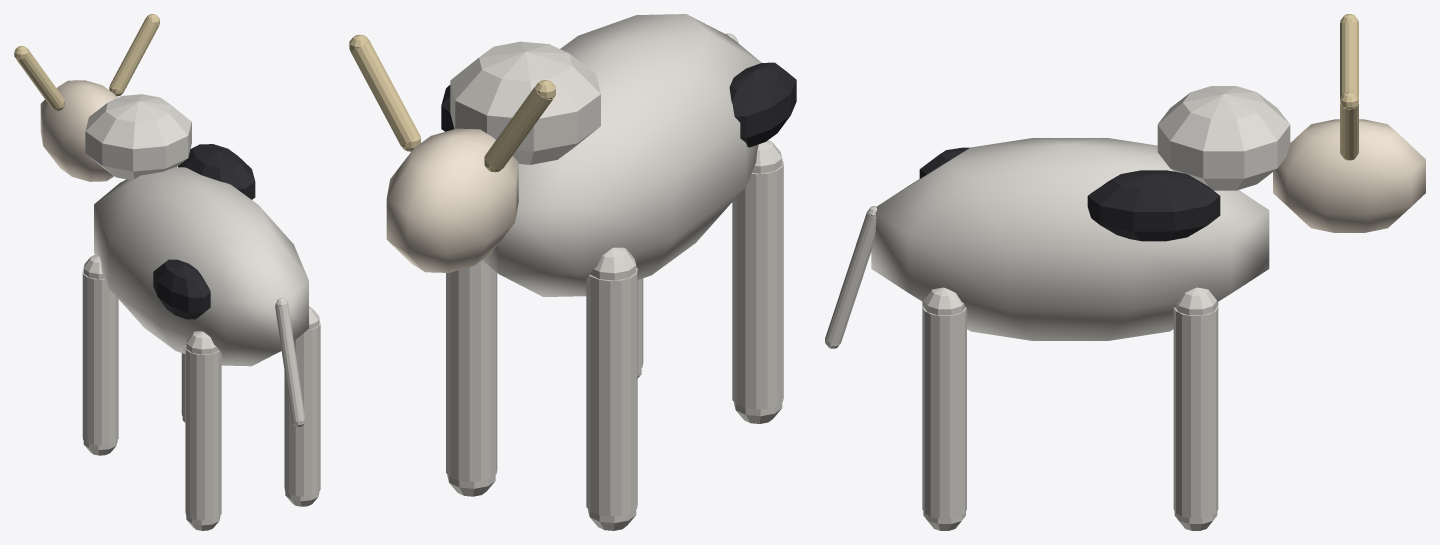
The model's file is rick-cow-D1IHve8W.glb.
3 views of the same model, side by side, from view 1: azimuth 30°, elevation 25°; view 2: azimuth 150°, elevation 25°; view 3: azimuth 270°, elevation 25° (orthographic). The views are drawn at different scales.
Visible parts, largest first — view 1: Sphere, Sphere.003, Cylinder.002, Cylinder.003, Cylinder.004, Sphere.004, Sphere.002, Sphere.001, Cylinder.006, Cylinder.001, Cylinder, Sphere.009 (+1 smaller); view 2: Sphere, Sphere.004, Cylinder.003, Sphere.003, Cylinder.002, Cylinder.005, Sphere.002, Cylinder.001, Cylinder, Sphere.011, Sphere.009, Cylinder.004 (+3 smaller); view 3: Sphere, Sphere.004, Sphere.003, Cylinder.005, Cylinder.004, Sphere.001, Cylinder.006, Cylinder, Cylinder.001, Sphere.013, Sphere.015.
Part boxes in pixels (x1,y1,x2,y2): Sphere: (94, 167, 308, 366); Sphere.003: (85, 94, 191, 180); Cylinder.002: (185, 345, 221, 520); Cylinder.003: (82, 270, 118, 445); Cylinder.004: (284, 320, 320, 496); Sphere.004: (40, 80, 116, 181); Sphere.002: (153, 259, 210, 319); Sphere.001: (178, 144, 255, 199); Cylinder.006: (275, 303, 305, 421); Cylinder.001: (110, 18, 158, 92); Cylinder: (15, 48, 64, 108); Sphere.009: (186, 331, 218, 354); Sphere: (482, 14, 761, 296); Sphere.004: (386, 128, 518, 272); Cylinder.003: (586, 267, 637, 516); Sphere.003: (450, 41, 600, 164); Cylinder.002: (732, 160, 783, 409); Cylinder.005: (446, 260, 497, 482); Sphere.002: (729, 62, 796, 147); Cylinder.001: (350, 40, 420, 145); Cylinder: (485, 83, 554, 169); Sphere.011: (589, 247, 636, 280); Sphere.009: (752, 140, 782, 173); Cylinder.004: (637, 278, 643, 370); Sphere: (871, 138, 1269, 340); Sphere.004: (1273, 119, 1425, 232); Sphere.003: (1157, 86, 1290, 190); Cylinder.005: (1173, 305, 1218, 518); Cylinder.004: (922, 306, 966, 518); Sphere.001: (1087, 170, 1220, 241); Cylinder.006: (825, 212, 876, 344); Cylinder: (1340, 22, 1358, 98); Cylinder.001: (1340, 99, 1358, 158); Sphere.013: (923, 287, 965, 315); Sphere.015: (1175, 287, 1217, 315).
Size of the model in its own units: 0.7761 by 1.77 by 2.15.
